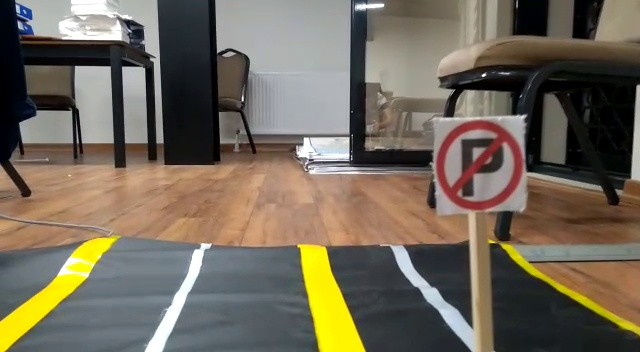park_yapilmaz: (430, 115, 529, 212)
